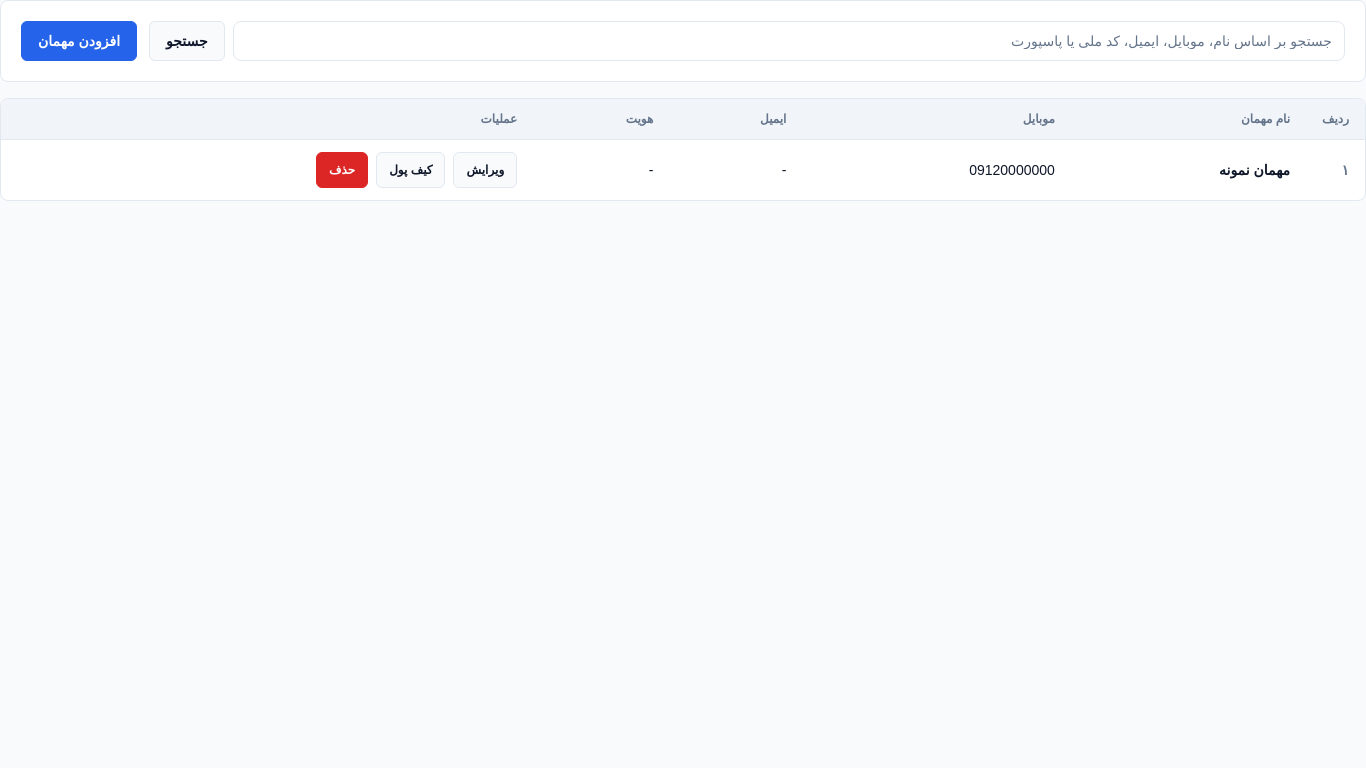
Scenario: Admin Guest wallet summary › keeps Wallet viewing separate from Guest editing
The width and height of the screenshot is (1366, 768).
Click the button "ویرایش" at coordinates (485, 170), box [454, 152, 517, 188]
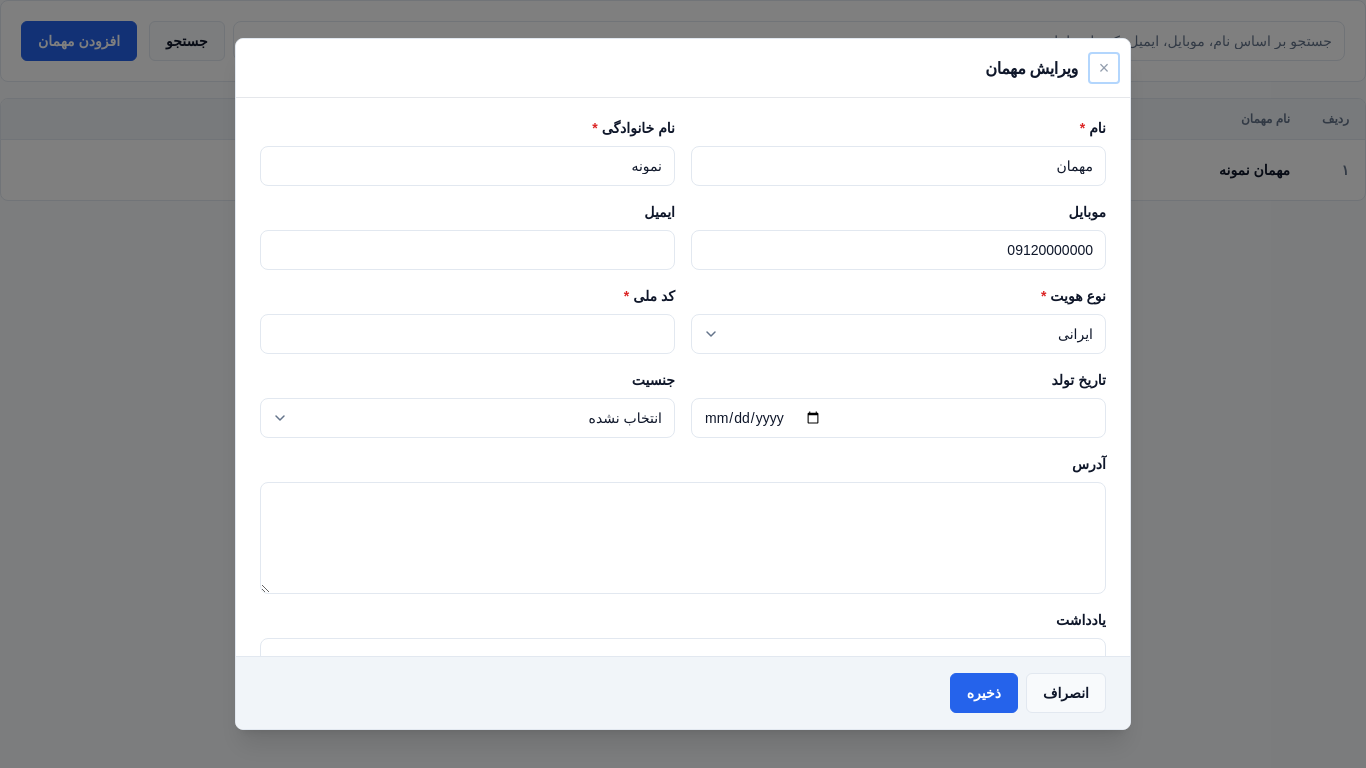
Check: the text "خلاصه کیف پول" is not shown
Click the button named "بستن" at coordinates (1104, 68), box [1090, 54, 1118, 82]
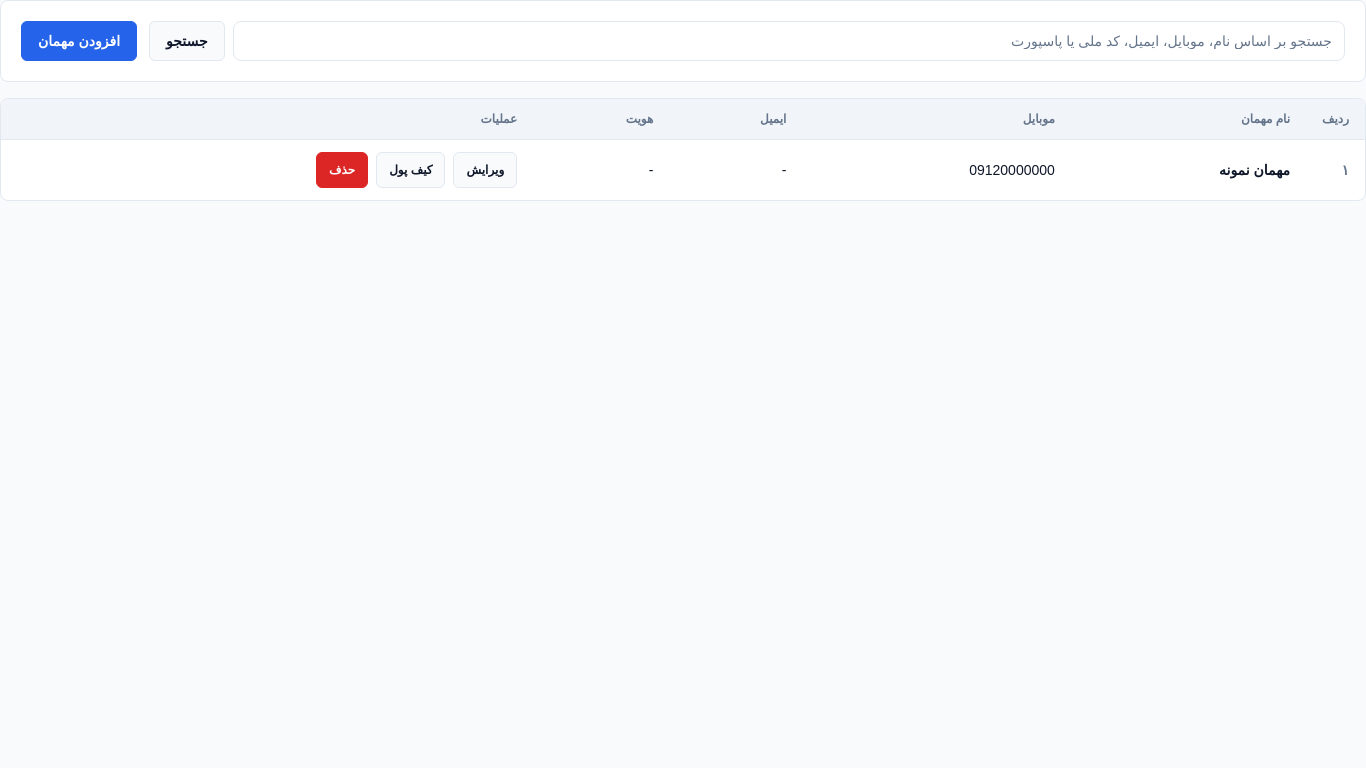
Click the button with aria-label "کیف پول مهمان نمونه" at coordinates (411, 170), box [376, 152, 446, 188]
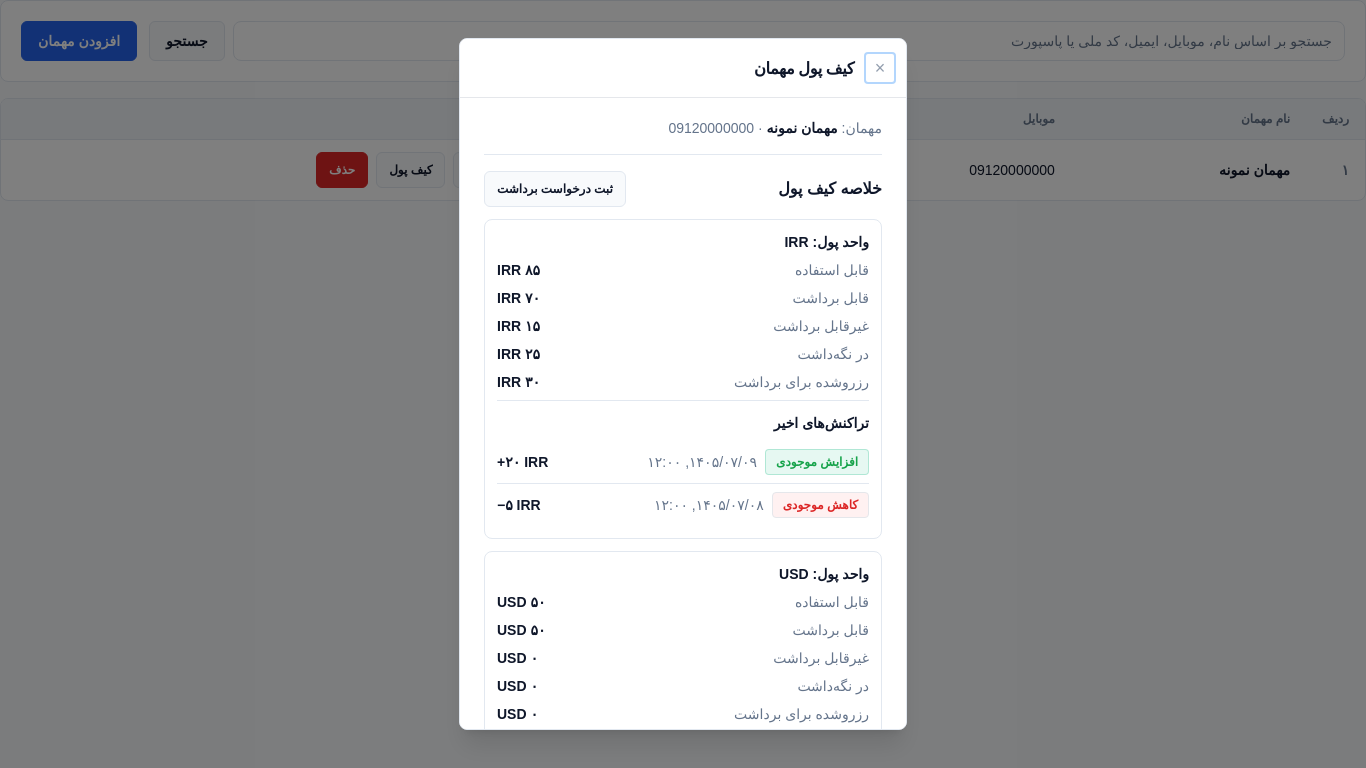
Check: the button "ذخیره" is not shown
Check: the text "مهمان نمونه" is shown, box [766, 120, 838, 136]
